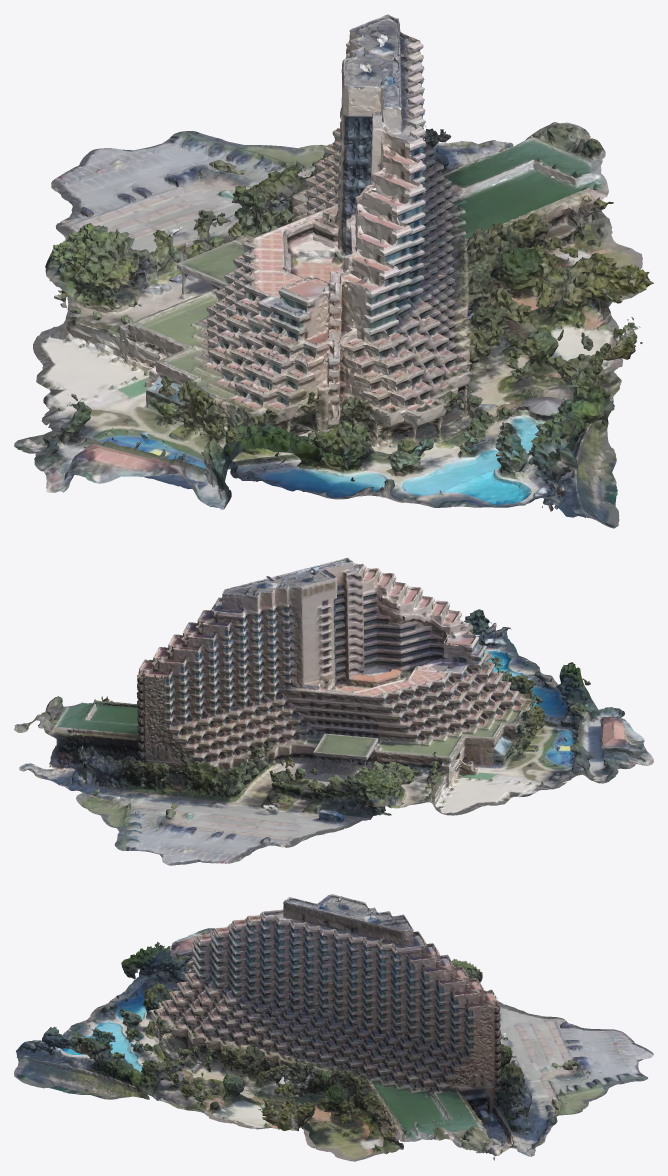
File: hotel_playa.glb
3 renders of one model, top to bottom at view 1: azimuth 30°, elevation 25°; view 2: azimuth 150°, elevation 25°; view 3: azimuth 270°, elevation 25°, orthographic. The views are drawn at different scales.
Parts seen in each view (by area): view 1: m.obj; view 2: m.obj; view 3: m.obj.
Part boxes in pixels (x1,y1,x2,y2): m.obj: (14, 14, 653, 528); m.obj: (14, 557, 653, 865); m.obj: (14, 894, 653, 1161).
Size of the model in its own units: 201 by 73.31 by 230.
1 material, 1 textured.
